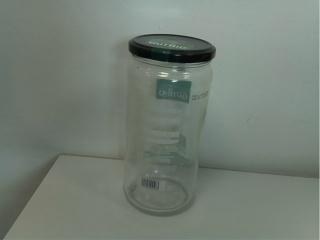pote cristal: (123, 33, 219, 220)
